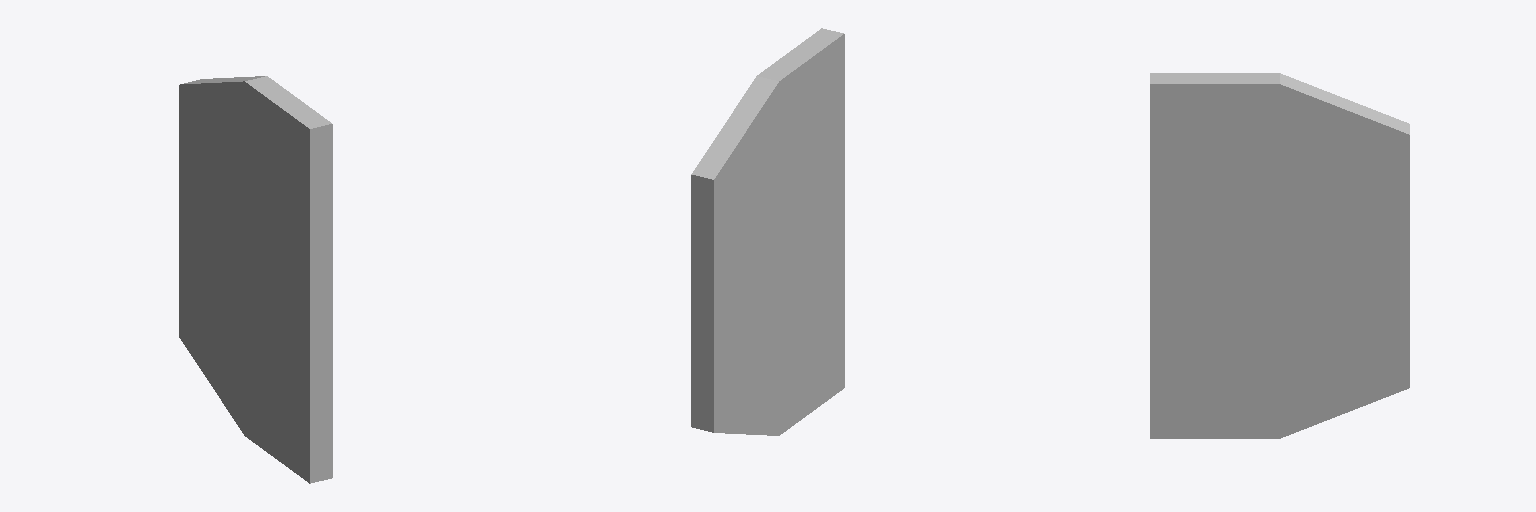
File: DoorRight.obj
The picture shows the model from 3 angles: view 1: azimuth 30°, elevation 25°; view 2: azimuth 150°, elevation 25°; view 3: azimuth 270°, elevation 25°; orthographic projection.
Parts seen in each view (by area): view 1: DoorRight_low_Cube.027; view 2: DoorRight_low_Cube.027; view 3: DoorRight_low_Cube.027.
Part boxes in pixels (left/top/right/bottom): DoorRight_low_Cube.027: left=179, top=76, right=332, bottom=483; DoorRight_low_Cube.027: left=691, top=28, right=844, bottom=435; DoorRight_low_Cube.027: left=1150, top=73, right=1409, bottom=438.
Size of the model in its own units: 0.2 by 3 by 2.